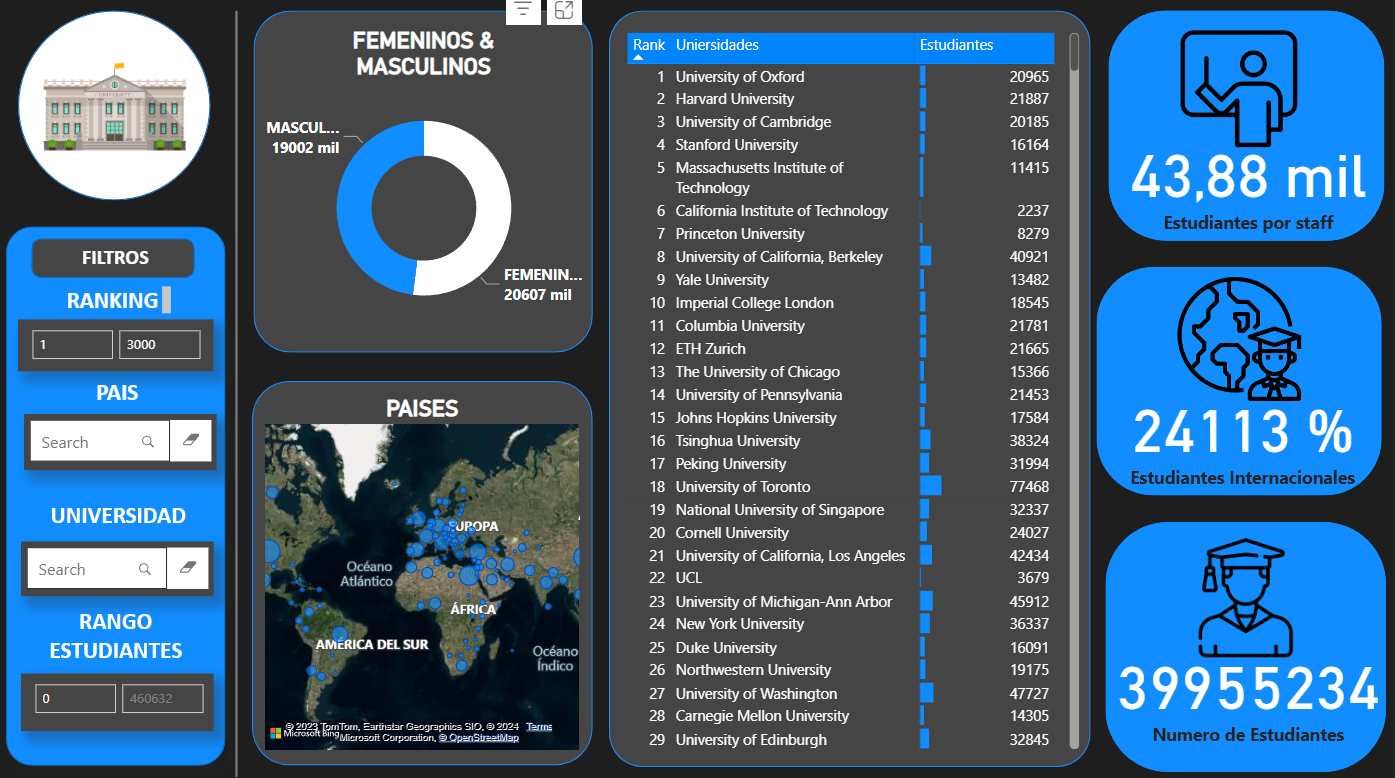

What the dashboard file says about the page in this screenshot:
{"tool":"powerbi","page":{"name":"Página 1","canvas":[1280,720],"ordinal":0},"visuals":[{"type":"shape","box":[1021.7,12.5,252.1,210.3],"z":0,"group":"g4"},{"type":"shape","box":[24.1,12.6,175.9,173.6],"z":0,"group":"g7"},{"type":"shape","box":[13.4,210.3,200.5,492.6],"z":0},{"type":"shape","box":[37,220,149,36],"z":0,"group":"g8"},{"type":"shape","box":[1010,246.2,260.5,208.7],"z":0,"group":"g3"},{"type":"textbox","box":[61.3,258.9,107.6,35.4],"z":0,"group":"g1"},{"type":"textbox","box":[74.6,342.5,80,36.4],"z":0,"group":"g2"},{"type":"shape","box":[239,350.8,311.2,351.2],"z":0,"group":"g13"},{"type":"textbox","box":[35.7,455.3,161.2,42.5],"z":0,"group":"g10"},{"type":"shape","box":[1018.8,480,256.3,228.4],"z":0,"group":"g5"},{"type":"textbox","box":[23,552.3,181.2,66.2],"z":0,"group":"g9"},{"type":"shape","box":[160.2,12.9,127.8,700.6],"z":1000},{"type":"image","box":[36.7,36.7,150.6,125.3],"z":1000,"group":"g7"},{"type":"card","title":"ESTUDIANTES POR STAFF","fields":{"Values":["Sum(Sheet1.Number of student per staffs)"]},"box":[1022.2,104.4,255,125],"z":1000,"group":"g4"},{"type":"textbox","box":[67,220,93,36],"z":1000,"group":"g8"},{"type":"card","title":"ESTUDIANTES INTERNACIONALES","fields":{"Values":["Sum(Sheet1.International Student)"]},"box":[1017.5,335.9,252.5,128.8],"z":1000,"group":"g3"},{"type":"map","title":"PAISES","fields":{"Size":["Sum(Sheet1.Number of Studnet)"],"Category":["Sheet1.locationLocation"]},"box":[245.9,362.6,297.4,329.3],"z":1000,"group":"g13"},{"type":"card","title":"ESTUDIANTES","fields":{"Values":["Sum(Sheet1.Number of Studnet)"]},"box":[1020.4,564.4,257.5,140],"z":1000,"group":"g5"},{"type":"slicer","fields":{"Values":["Sheet1.Number of Studnet"]},"box":[26.8,618.5,176.2,52.5],"z":1000,"group":"g9"},{"type":"group","id":"g1","title":"Grupo 6","box":[61.3,258.9,107.6,35.4],"z":2000},{"type":"group","id":"g2","title":"Grupo 6","box":[74.6,342.5,80,36.4],"z":2000,"group":"g11"},{"type":"shape","box":[240,12.5,310,312.5],"z":3000,"group":"g12"},{"type":"shape","box":[565,12.5,440,691.2],"z":4000},{"type":"donutChart","title":"FEMENINOS & MASCULINOS","fields":{"Y":["Sum(Sheet1.Estudiantes femeninos)","Sum(Sheet1.Estudiantes masculinos)"]},"box":[249.8,27.5,291.6,283.8],"z":6000,"group":"g12"},{"type":"group","id":"g3","title":"Grupo 1","box":[1010,246.2,260.5,218.4],"z":7000},{"type":"group","id":"g4","title":"Grupo 2","box":[1021.7,12.5,255.5,216.9],"z":8000},{"type":"group","id":"g5","title":"Grupo 3","box":[1018.8,480,258.8,228.8],"z":9000},{"type":"group","id":"g6","title":"Grupo 4","box":[239,350.8,311.2,351.2],"z":10000},{"type":"group","id":"g7","title":"Grupo 5","box":[24.1,12.6,175.9,173.6],"z":11000},{"type":"group","id":"g8","title":"Grupo 6","box":[37,220,149,36],"z":12000},{"type":"group","id":"g9","title":"Grupo 7","box":[23,552.3,181.2,118.7],"z":13000},{"type":"group","id":"g10","title":"Grupo 8","box":[35.7,455.3,161.2,42.5],"z":14000},{"type":"image","box":[1052.5,5,175,156.2],"z":15000},{"type":"textFilter25A4896A83E0487089E2B90C9AE57C8A","fields":{"field":["Sheet1.locationLocation"]},"box":[29.7,380.6,176.2,51.2],"z":15000,"group":"g11"},{"type":"image","box":[1087.5,466.2,118.8,166.2],"z":16000},{"type":"image","box":[1042.5,246.2,195,131.2],"z":17000},{"type":"slicer","fields":{"Values":["Sheet1.Rank"]},"box":[25,295,178.8,47.5],"z":18000},{"type":"group","id":"g11","title":"Grupo 9","box":[29.7,342.5,176.2,89.4],"z":19000},{"type":"tableEx","fields":{"Values":["Sum(Sheet1.Rank)","Sheet1.University name","Sum(Sheet1.Number of Studnet)"]},"box":[575,27.5,423.8,665],"z":20000},{"type":"group","id":"g12","title":"Grupo 11","box":[240,12.5,310,312.5],"z":20001},{"type":"group","id":"g13","title":"Grupo 10","box":[239,350.8,311.2,351.2],"z":20001,"group":"g6"},{"type":"textFilter25A4896A83E0487089E2B90C9AE57C8A","fields":{"field":["Sheet1.University name"]},"box":[27.5,497.5,176.2,50],"z":20002}]}

Visuals, with their boxes in screenshot pixels (x1, y1, x2, y2), scaled from the page's 1280x720 canvas onto the 1395x778 screenshot:
shape: x1=1113, y1=14, x2=1388, y2=241
shape: x1=26, y1=14, x2=218, y2=201
shape: x1=15, y1=227, x2=233, y2=760
shape: x1=40, y1=238, x2=203, y2=277
shape: x1=1101, y1=266, x2=1385, y2=492
textbox: x1=67, y1=280, x2=184, y2=318
textbox: x1=81, y1=370, x2=168, y2=409
shape: x1=260, y1=379, x2=600, y2=759
textbox: x1=39, y1=492, x2=215, y2=538
shape: x1=1110, y1=519, x2=1390, y2=765
textbox: x1=25, y1=597, x2=223, y2=668
shape: x1=175, y1=14, x2=314, y2=771
image: x1=40, y1=40, x2=204, y2=175
"ESTUDIANTES POR STAFF" card: x1=1114, y1=113, x2=1392, y2=248
textbox: x1=73, y1=238, x2=174, y2=277
"ESTUDIANTES INTERNACIONALES" card: x1=1109, y1=363, x2=1384, y2=502
"PAISES" map: x1=268, y1=392, x2=592, y2=748
"ESTUDIANTES" card: x1=1112, y1=610, x2=1393, y2=761
slicer - Sheet1.Number of Studnet: x1=29, y1=668, x2=221, y2=725
"Grupo 6" group: x1=67, y1=280, x2=184, y2=318
"Grupo 6" group: x1=81, y1=370, x2=168, y2=409
shape: x1=262, y1=14, x2=599, y2=351
shape: x1=616, y1=14, x2=1095, y2=760
"FEMENINOS & MASCULINOS" donutChart: x1=272, y1=30, x2=590, y2=336
"Grupo 1" group: x1=1101, y1=266, x2=1385, y2=502
"Grupo 2" group: x1=1113, y1=14, x2=1392, y2=248
"Grupo 3" group: x1=1110, y1=519, x2=1392, y2=766
"Grupo 4" group: x1=260, y1=379, x2=600, y2=759
"Grupo 5" group: x1=26, y1=14, x2=218, y2=201
"Grupo 6" group: x1=40, y1=238, x2=203, y2=277
"Grupo 7" group: x1=25, y1=597, x2=223, y2=725
"Grupo 8" group: x1=39, y1=492, x2=215, y2=538
image: x1=1147, y1=5, x2=1338, y2=174
textFilter25A4896A83E0487089E2B90C9AE57C8A - Sheet1.locationLocation: x1=32, y1=411, x2=224, y2=467
image: x1=1185, y1=504, x2=1315, y2=683
image: x1=1136, y1=266, x2=1349, y2=408
slicer - Sheet1.Rank: x1=27, y1=319, x2=222, y2=370
"Grupo 9" group: x1=32, y1=370, x2=224, y2=467
tableEx - Sum(Sheet1.Rank) x Sheet1.University name: x1=627, y1=30, x2=1089, y2=748
"Grupo 11" group: x1=262, y1=14, x2=599, y2=351
"Grupo 10" group: x1=260, y1=379, x2=600, y2=759
textFilter25A4896A83E0487089E2B90C9AE57C8A - Sheet1.University name: x1=30, y1=538, x2=222, y2=592
